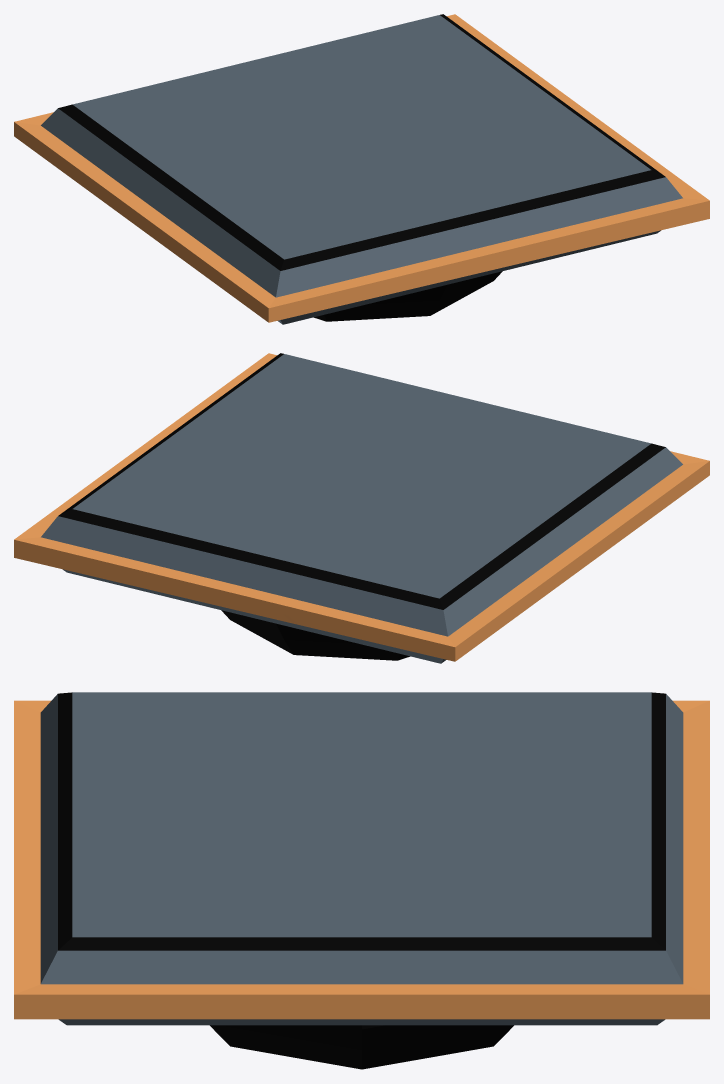
File: movingplatform.fbx
The picture shows the model from 3 angles, top to bottom: view 1: azimuth 30°, elevation 25°; view 2: azimuth 150°, elevation 25°; view 3: azimuth 270°, elevation 25°; orthographic projection. The views are drawn at different scales.
Visible parts, largest first — view 1: Cube.007; view 2: Cube.007; view 3: Cube.007.
Boxes of the visible parts, bbox=[...] form: Cube.007: bbox=[14, 14, 709, 324]; Cube.007: bbox=[14, 353, 709, 663]; Cube.007: bbox=[14, 692, 709, 1069].
Bounding box in the file's own units: 236 × 65.77 × 236.
